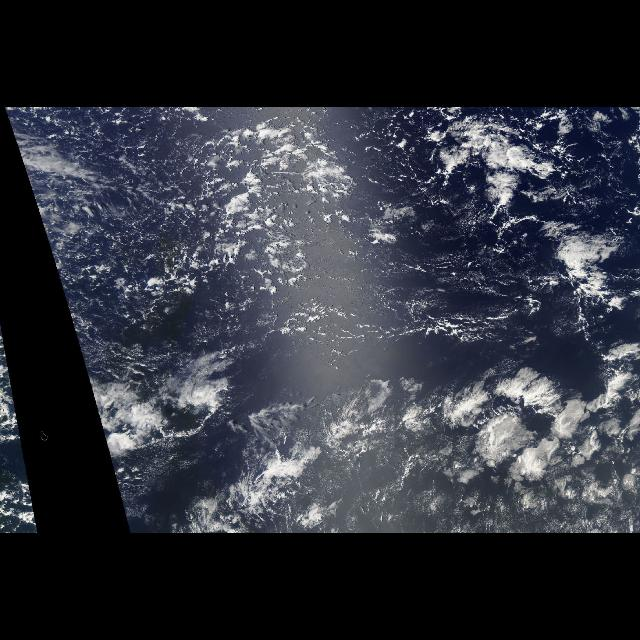Flower: (366, 351, 638, 533)
Gravel: (98, 108, 576, 352)
